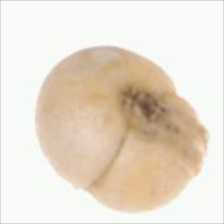L4: (35, 46, 212, 214)
